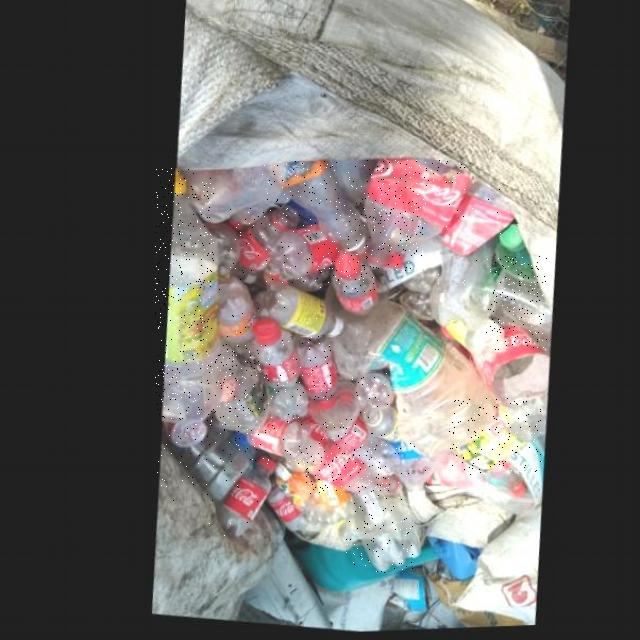plastic: (320, 294, 489, 460), (156, 168, 214, 428), (424, 183, 510, 333), (359, 161, 469, 271), (262, 162, 363, 257), (449, 399, 542, 475), (155, 426, 243, 501), (485, 257, 547, 350), (346, 494, 413, 574), (248, 284, 340, 340), (208, 345, 264, 434), (231, 208, 295, 285), (208, 459, 268, 539), (304, 446, 394, 495), (320, 419, 393, 479), (265, 227, 335, 282), (243, 318, 295, 389), (240, 416, 305, 465), (327, 255, 375, 321), (213, 278, 252, 357), (289, 337, 333, 401), (490, 225, 533, 287), (388, 444, 427, 508), (349, 372, 390, 412), (261, 384, 302, 424), (355, 410, 394, 444), (155, 421, 201, 449), (380, 249, 405, 272)
